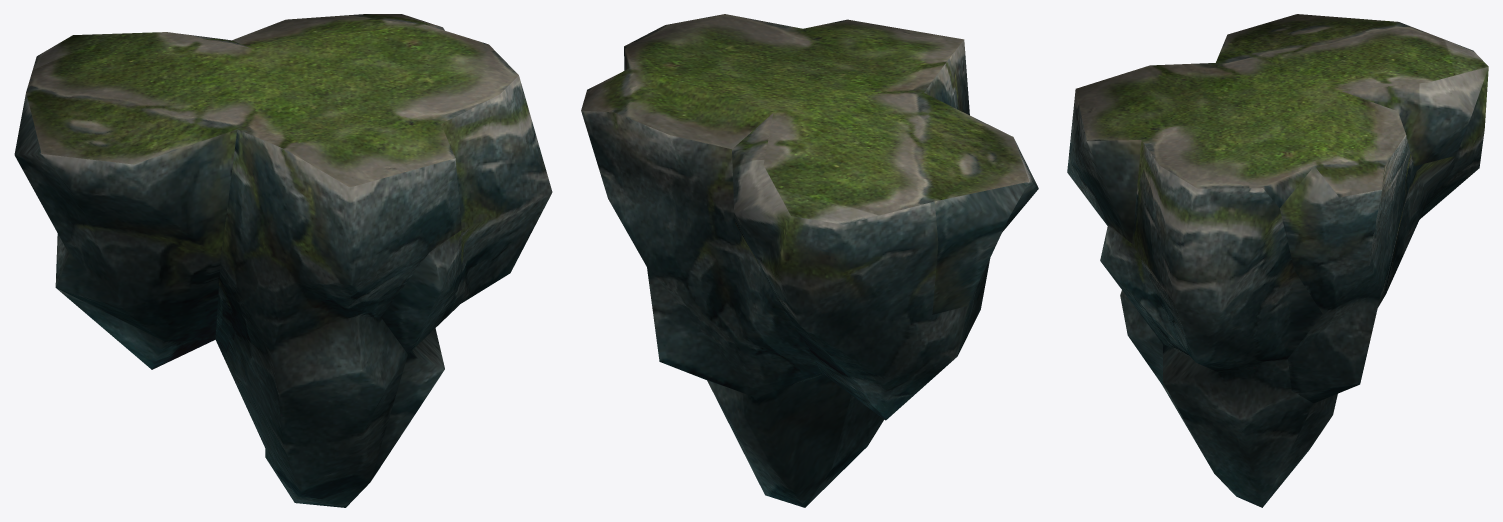
Rendered from qys_jiebian01_LOD2.FBX.
3 views of the same model, side by side, from view 1: azimuth 30°, elevation 25°; view 2: azimuth 150°, elevation 25°; view 3: azimuth 270°, elevation 25° (orthographic). The views are drawn at different scales.
Parts seen in each view (by area): view 1: qys_jiebian02_LOD2; view 2: qys_jiebian02_LOD2; view 3: qys_jiebian02_LOD2.
Part boxes in pixels (bbox=[...]): qys_jiebian02_LOD2: bbox=[14, 14, 552, 507]; qys_jiebian02_LOD2: bbox=[581, 14, 1038, 507]; qys_jiebian02_LOD2: bbox=[1067, 14, 1488, 507].
Size of the model in its own units: 3034 by 2734 by 2652.
